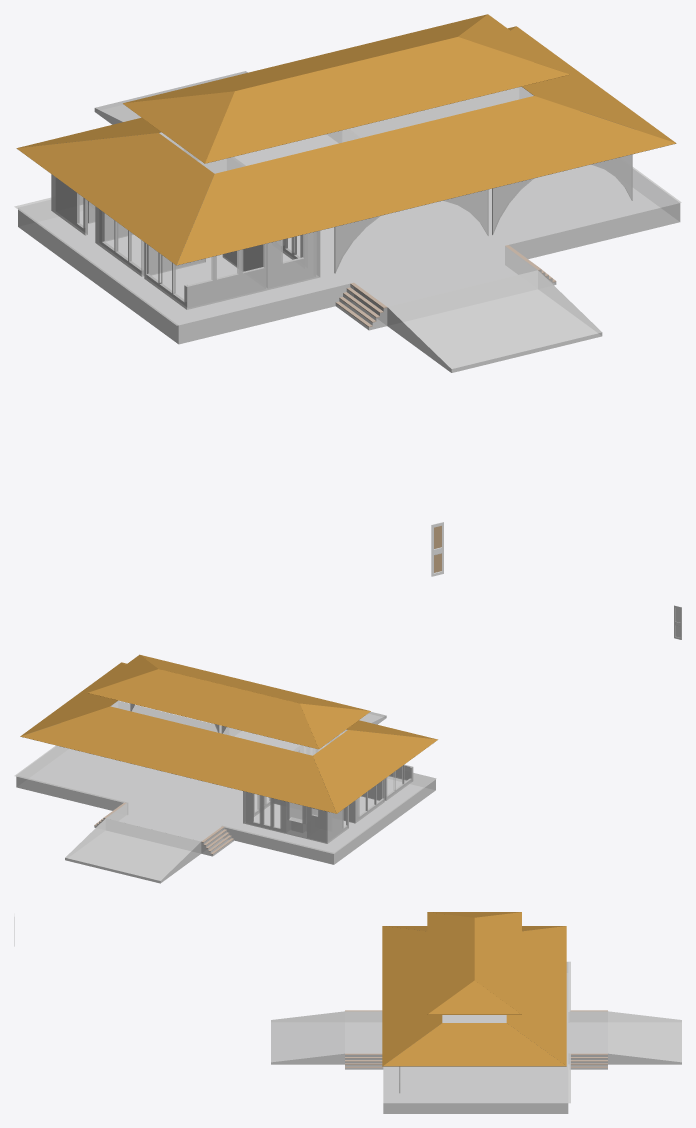
3 renders of one model, top to bottom at view 1: azimuth 30°, elevation 25°; view 2: azimuth 150°, elevation 25°; view 3: azimuth 270°, elevation 25°, orthographic. The views are drawn at different scales.
Visible parts, largest first — view 1: Node1059, Node710, Node757, Node742, Node719, Node590, Node591, Node734, Node844, Node728, Node713, Node865 (+14 smaller); view 2: Node1059, Node757, Node754, Node734, Node719, Node661, Node662, Node913, Node742, Node728, Node713, Node1063 (+7 smaller); view 3: Node1059, Node757, Node710, Node754, Node713, Node742, Node734, Node590, Node661, Node591, Node662, Node733 (+6 smaller).
Boxes of the visible parts, box(x1,y1,x2,y2) form: Node1059: box(20, 135, 677, 343); Node710: box(177, 96, 675, 265); Node757: box(18, 87, 678, 324); Node742: box(205, 37, 569, 163); Node719: box(17, 133, 214, 265); Node590: box(387, 270, 601, 368); Node591: box(389, 290, 599, 372); Node734: box(123, 14, 487, 103); Node844: box(187, 230, 320, 309); Node728: box(123, 91, 234, 163); Node713: box(511, 26, 675, 142); Node865: box(178, 283, 350, 344); Node1059: box(18, 731, 434, 863); Node757: box(17, 701, 434, 852); Node754: box(20, 706, 336, 813); Node734: box(88, 669, 318, 749); Node719: box(313, 730, 437, 813); Node661: box(65, 818, 200, 880); Node662: box(67, 831, 199, 882); Node913: box(243, 791, 327, 843); Node742: box(140, 655, 369, 710); Node728: box(300, 703, 370, 748); Node713: box(20, 662, 124, 736); Node1063: box(224, 827, 333, 864); Node1059: box(345, 973, 607, 1113); Node757: box(346, 962, 607, 1102); Node710: box(382, 926, 442, 1066); Node754: box(506, 926, 566, 1065); Node713: box(383, 1023, 565, 1066); Node742: box(427, 912, 474, 1014); Node734: box(474, 912, 521, 1014); Node590: box(271, 1011, 344, 1062); Node661: box(608, 1011, 681, 1062); Node591: box(271, 1023, 344, 1063); Node662: box(608, 1023, 681, 1063); Node733: box(428, 980, 521, 1014).
Bounding box in the file's own units: 1230 × 334 × 2165.
